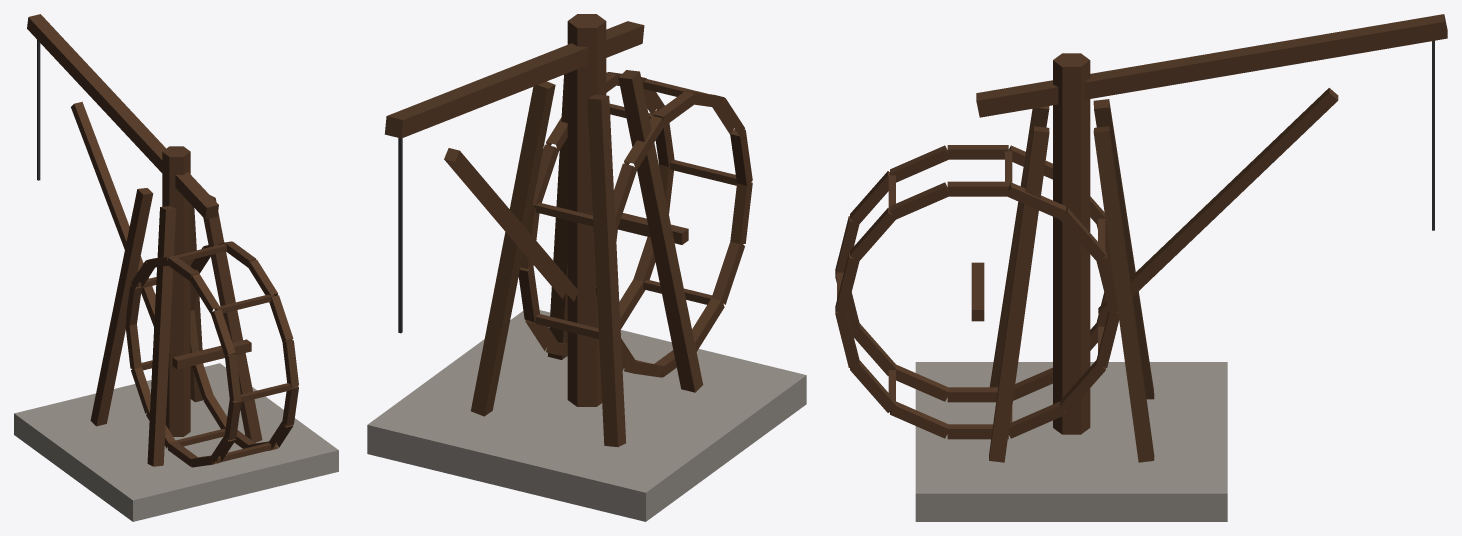
The model's file is crane.obj.
3 views of the same model, side by side, from view 1: azimuth 30°, elevation 25°; view 2: azimuth 150°, elevation 25°; view 3: azimuth 270°, elevation 25° (orthographic). The views are drawn at different scales.
Size of the model in its own units: 5 by 7.75 by 9.82.
